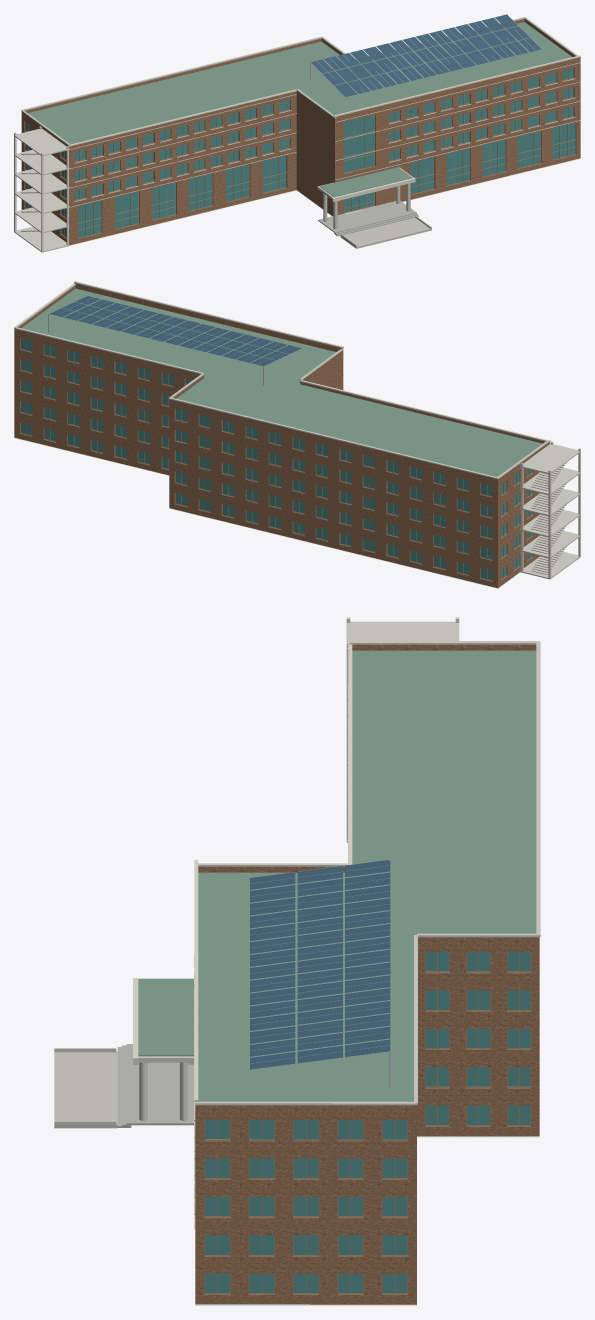
3 views of the same model, one above another, from view 1: azimuth 30°, elevation 25°; view 2: azimuth 150°, elevation 25°; view 3: azimuth 270°, elevation 25° (orthographic). The views are drawn at different scales.
Visible parts, largest first — view 1: main-ring-floor-18.5, front-right-wing__wall, front-left-wing__wall, front-right-wing__window__glass, front-left-wing__window__glass, roof-solar-array, west-stair-landings, rear-side-estimated-05__wall, front-left-wing__window__frame, rear-side-coping, front-right-wing__window__frame, front-left-wing__window__reveal (+20 smaller); view 2: rear-side-estimated-00__wall, main-ring-floor-18.5, rear-side-estimated-02__wall, rear-side-estimated-00__window__glass, roof-solar-array, rear-side-estimated-02__window__glass, west-stair-landings, rear-side-estimated-07__wall, rear-side-coping, rear-side-estimated-00__window__frame, rear-side-estimated-00__window__reveal, west-stair-flight-treads (+13 smaller); view 3: main-ring-floor-18.5, rear-side-estimated-03__wall, roof-solar-array, rear-side-estimated-01__wall, rear-side-estimated-03__window__glass, rear-side-estimated-01__window__glass, rear-side-coping, entry-granite-forecourt, portico-green-roof, entry-landing, roof-solar-grid, rear-side-estimated-03__window__frame (+7 smaller).
Part boxes in pixels (x1,y1,x2,y2): main-ring-floor-18.5: (28,22,572,144); front-right-wing__wall: (335,57,580,214); front-left-wing__wall: (69,91,296,245); front-right-wing__window__glass: (344,68,575,212); front-left-wing__window__glass: (74,99,289,237); roof-solar-array: (311,14,541,96); west-stair-landings: (14,128,69,251); rear-side-estimated-05__wall: (296,91,334,215); front-left-wing__window__frame: (74,100,290,238); rear-side-coping: (21,17,580,145); front-right-wing__window__frame: (344,68,576,212); front-left-wing__window__reveal: (75,99,290,238); rear-side-estimated-00__wall: (169,399,497,588); main-ring-floor-18.5: (22,288,542,476); rear-side-estimated-02__wall: (14,329,200,475); rear-side-estimated-00__window__glass: (176,409,492,580); roof-solar-array: (49,296,301,365); rear-side-estimated-02__window__glass: (21,338,192,468); west-stair-landings: (520,444,579,578); rear-side-estimated-07__wall: (498,442,549,587); rear-side-coping: (14,283,550,479); rear-side-estimated-00__window__frame: (175,409,492,581); rear-side-estimated-00__window__reveal: (174,409,492,581); west-stair-flight-treads: (531,463,566,574); main-ring-floor-18.5: (198,650,536,1101); rear-side-estimated-03__wall: (195,1105,416,1304); roof-solar-array: (250,860,390,1069); rear-side-estimated-01__wall: (417,937,539,1136); rear-side-estimated-03__window__glass: (205,1120,407,1293); rear-side-estimated-01__window__glass: (426,952,530,1125); rear-side-coping: (195,641,540,1105); entry-granite-forecourt: (54,1051,117,1128); portico-green-roof: (138,979,194,1056); entry-landing: (131,1044,193,1125); roof-solar-grid: (250,859,390,1069); rear-side-estimated-03__window__frame: (204,1120,407,1294).
Size of the model in its own units: 101 by 22.31 by 42.39.
Materials: 10 (1 with a texture image).
